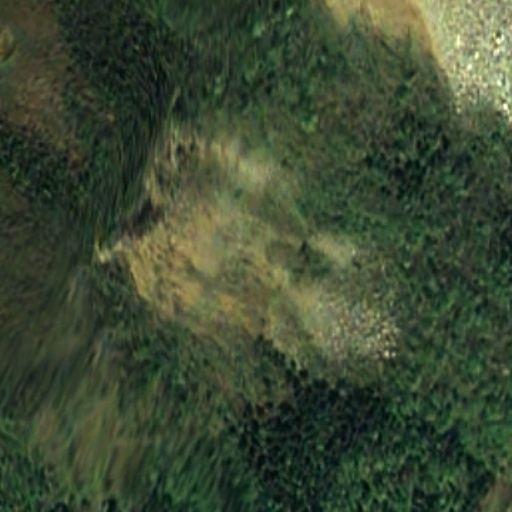landslide: (122, 128, 308, 326)
